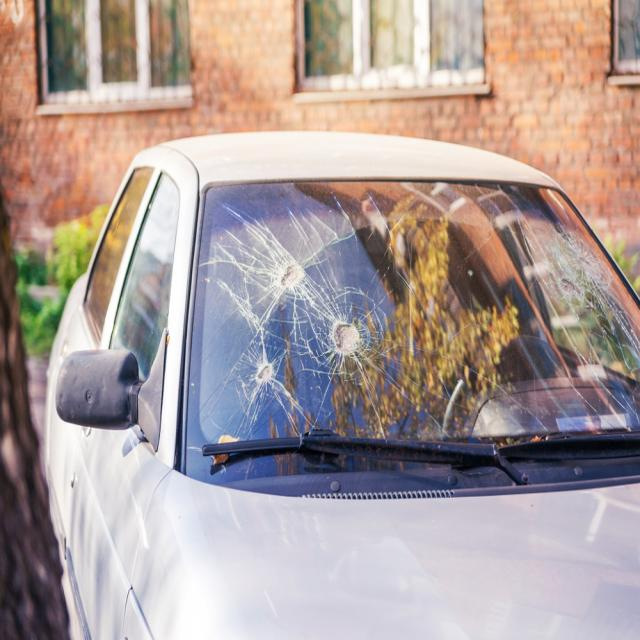Fissure: (206, 190, 445, 452), (482, 184, 640, 431)
